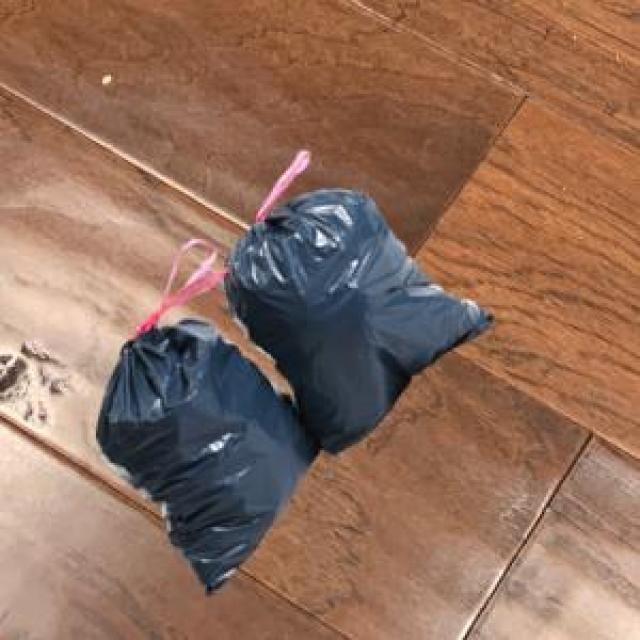waste: (98, 189, 490, 589)
